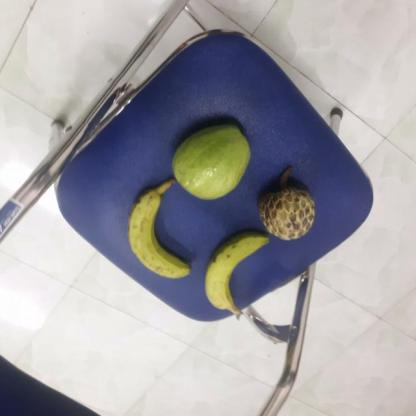annona: (257, 176, 316, 239)
banana: (124, 190, 192, 280), (200, 232, 270, 315)
guava: (169, 123, 251, 199)
